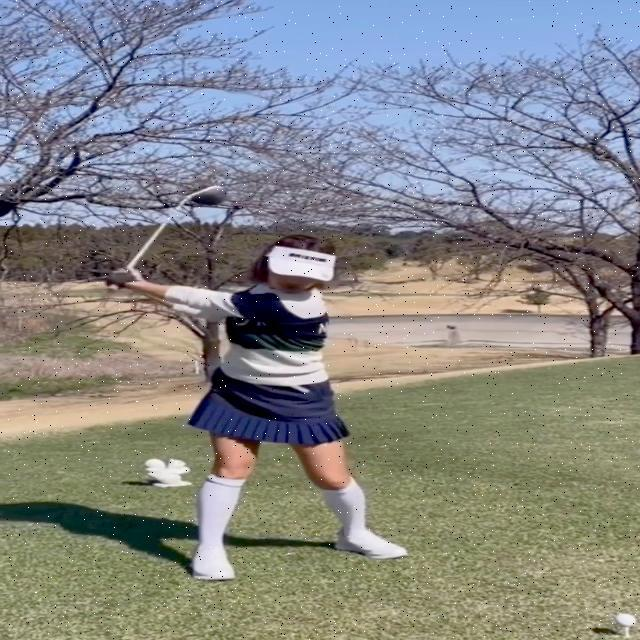ClubHandle: (109, 187, 230, 294)
ClubHead: (188, 187, 231, 205)
GolfBall: (614, 614, 636, 626)
